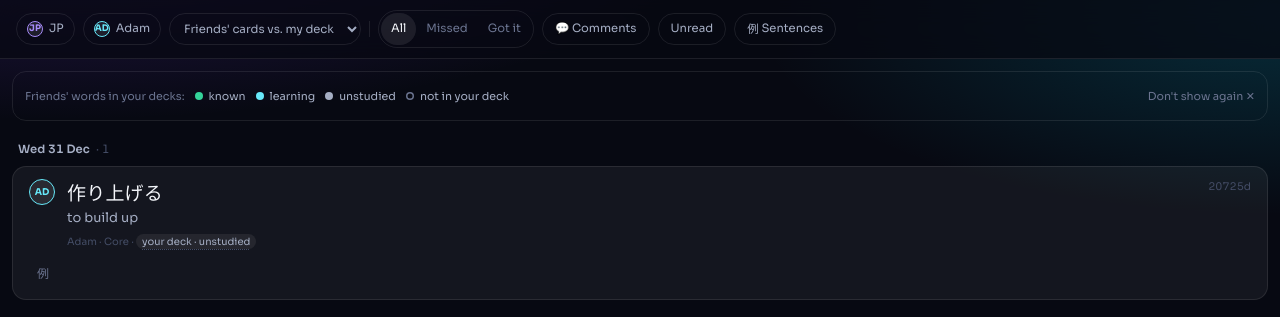
Test case: deck colour guide › stays gone after Don't show this again
Click the button with test id "deck-legend-dismiss": (1201, 96) [1148,80,1255,112]
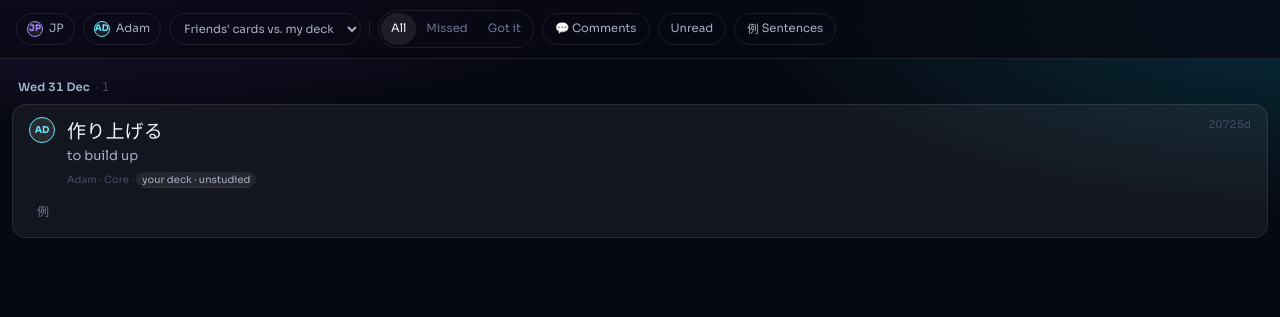
Check: the element with test id "deck-legend" is gone
